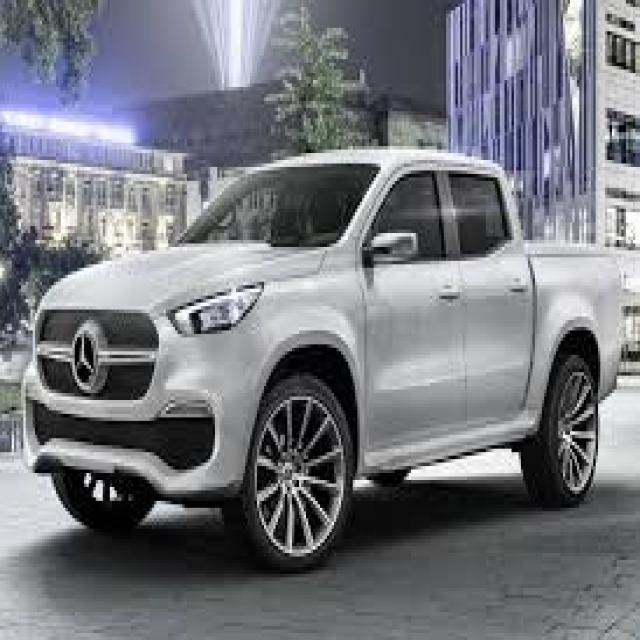Pickup Trucks: (21, 149, 626, 574)
